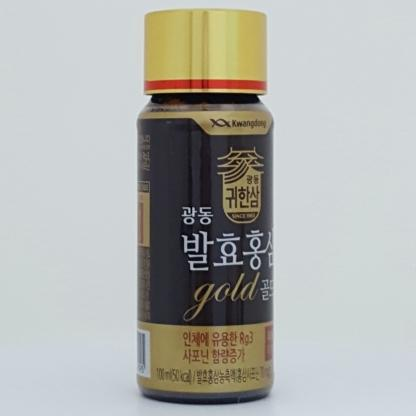-------100ml: (136, 8, 275, 405)
